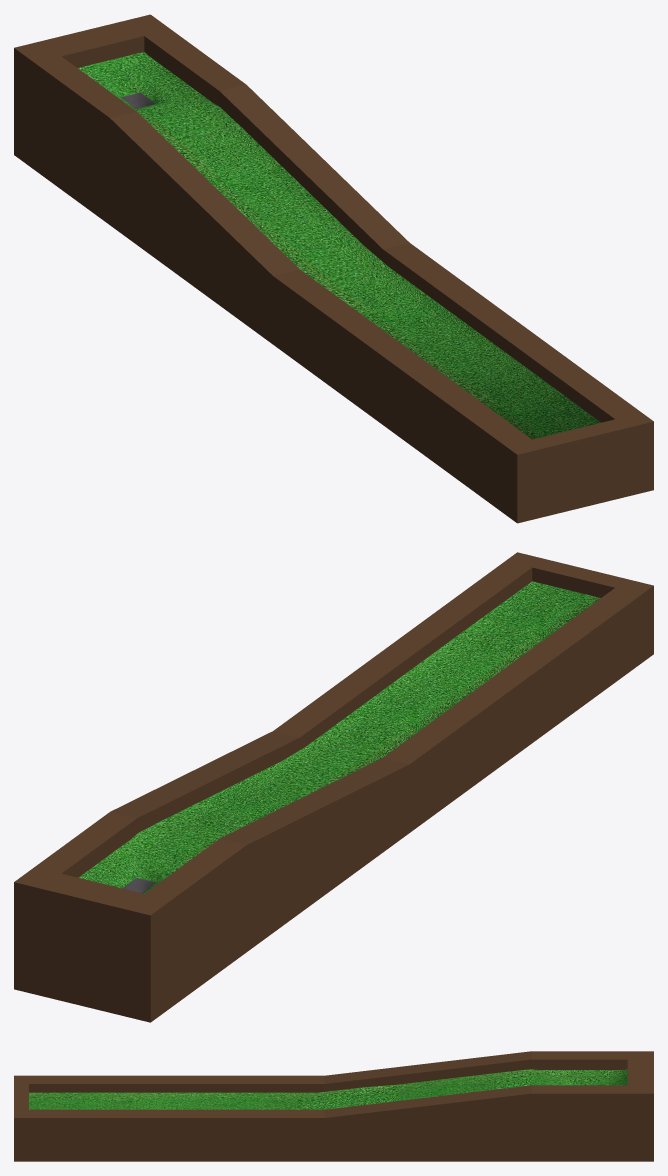
Rendered from Hole 2.fbx.
3 renders of one model, top to bottom at view 1: azimuth 30°, elevation 25°; view 2: azimuth 150°, elevation 25°; view 3: azimuth 270°, elevation 25°, orthographic. The views are drawn at different scales.
Visible parts, largest first — view 1: Campo; view 2: Campo; view 3: Campo.
Part boxes in pixels (x1,y1,x2,y2): Campo: [14, 14, 653, 523]; Campo: [14, 552, 653, 1022]; Campo: [14, 1051, 653, 1161].
Size of the model in its own units: 267 by 1702 by 200.
